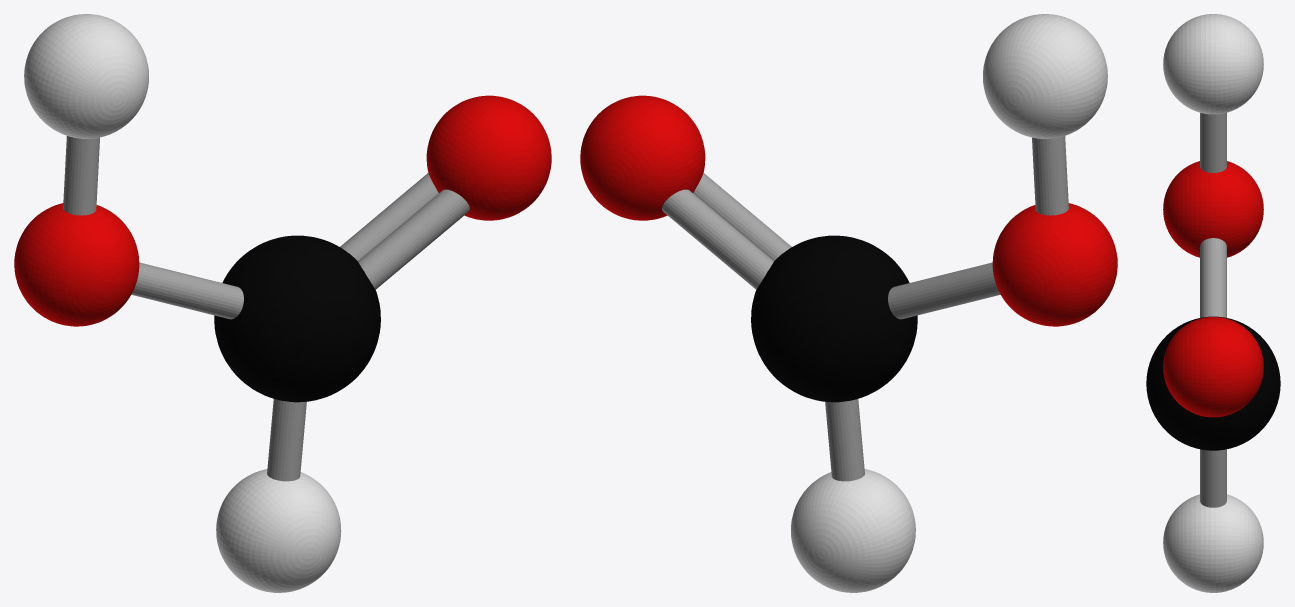
File: SodiumFormate.glb
The picture shows the model from 3 angles, left to right: view 1: azimuth 30°, elevation 25°; view 2: azimuth 150°, elevation 25°; view 3: azimuth 270°, elevation 25°; orthographic projection. The views are drawn at different scales.
Visible parts, largest first — view 1: world; view 2: world; view 3: world.
Part boxes in pixels (x1,y1,x2,y2): world: (14,14,551,592); world: (580,14,1117,592); world: (1146,14,1280,592).
Size of the model in its own units: 2.88 by 3.25 by 0.8.
